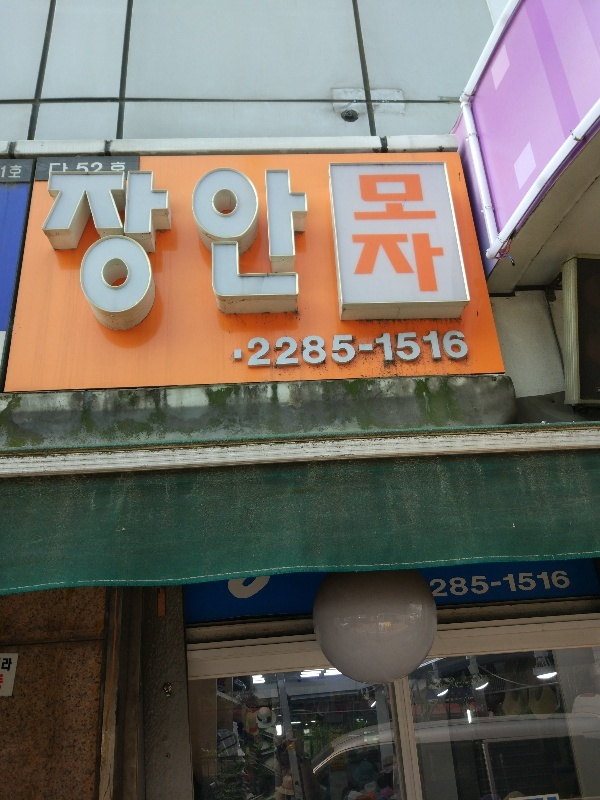text: (49, 168, 64, 342), (65, 168, 80, 342), (81, 168, 96, 342), (97, 168, 112, 342), (113, 168, 128, 342), (129, 168, 144, 342), (145, 168, 160, 342), (161, 168, 176, 342), (177, 168, 192, 342), (193, 168, 208, 342), (209, 168, 224, 342), (225, 168, 240, 342), (241, 168, 256, 342), (257, 168, 272, 342), (273, 168, 288, 342), (289, 168, 304, 342), (353, 171, 368, 303), (369, 171, 384, 303), (385, 171, 400, 303), (401, 171, 416, 303), (417, 171, 432, 303), (433, 171, 448, 303), (43, 168, 48, 342), (305, 168, 309, 342), (257, 329, 272, 371), (273, 329, 288, 371), (289, 329, 304, 371), (305, 329, 320, 371), (321, 329, 336, 371), (337, 329, 352, 371), (353, 329, 368, 371), (369, 329, 384, 371), (385, 329, 400, 371), (401, 329, 416, 371), (417, 329, 432, 371), (433, 329, 448, 371), (449, 329, 464, 371), (433, 568, 448, 600), (449, 568, 464, 600), (465, 568, 480, 600), (481, 568, 496, 600), (497, 568, 512, 600), (513, 568, 528, 600), (529, 568, 544, 600), (545, 568, 560, 600), (247, 329, 256, 371), (561, 568, 572, 600), (1, 163, 16, 181), (449, 171, 451, 303), (49, 160, 64, 177), (65, 160, 80, 177), (81, 160, 96, 177), (97, 160, 112, 177), (465, 329, 471, 371), (113, 160, 127, 177), (3, 657, 16, 673), (17, 163, 23, 181), (429, 568, 432, 600)
